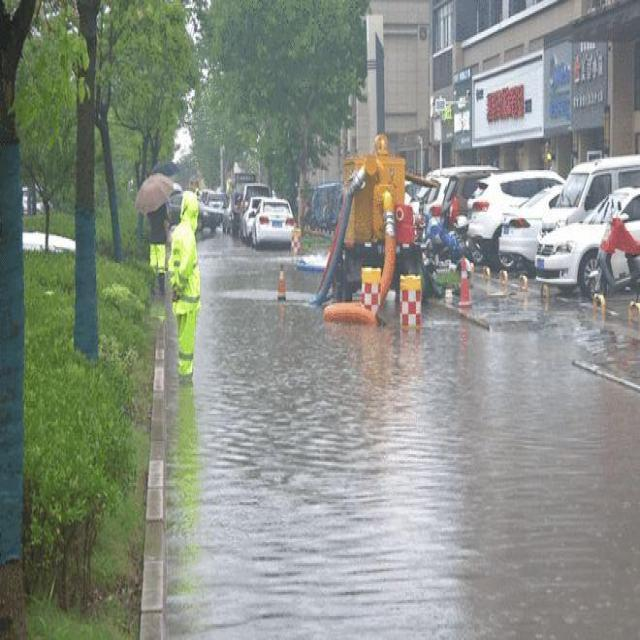rescuer: (164, 184, 206, 404)
